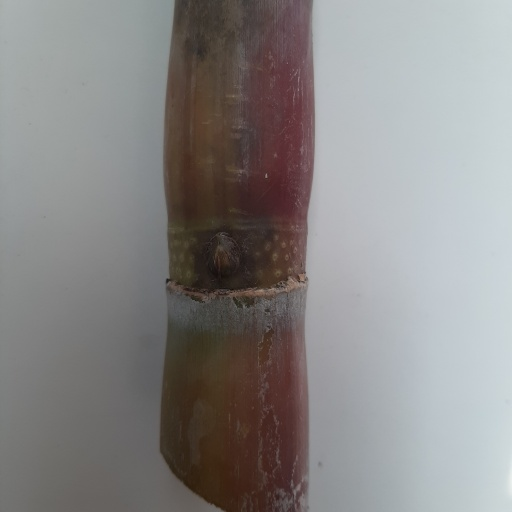Bud: (205, 233, 241, 276)
